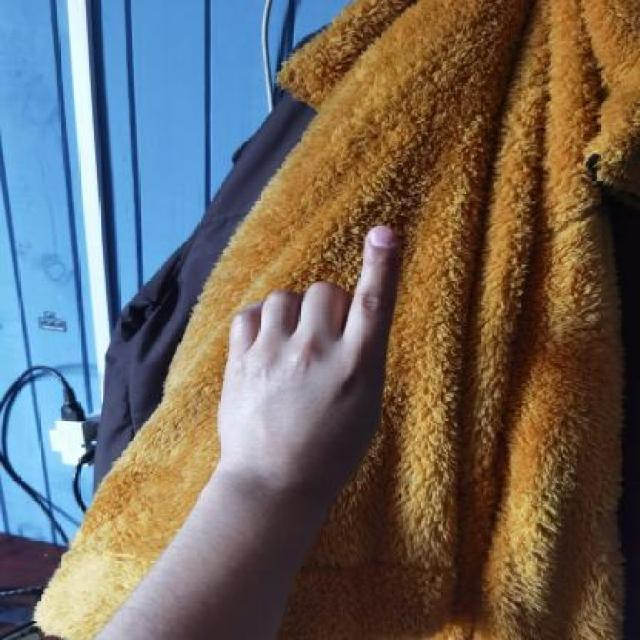T: (200, 214, 432, 509)
